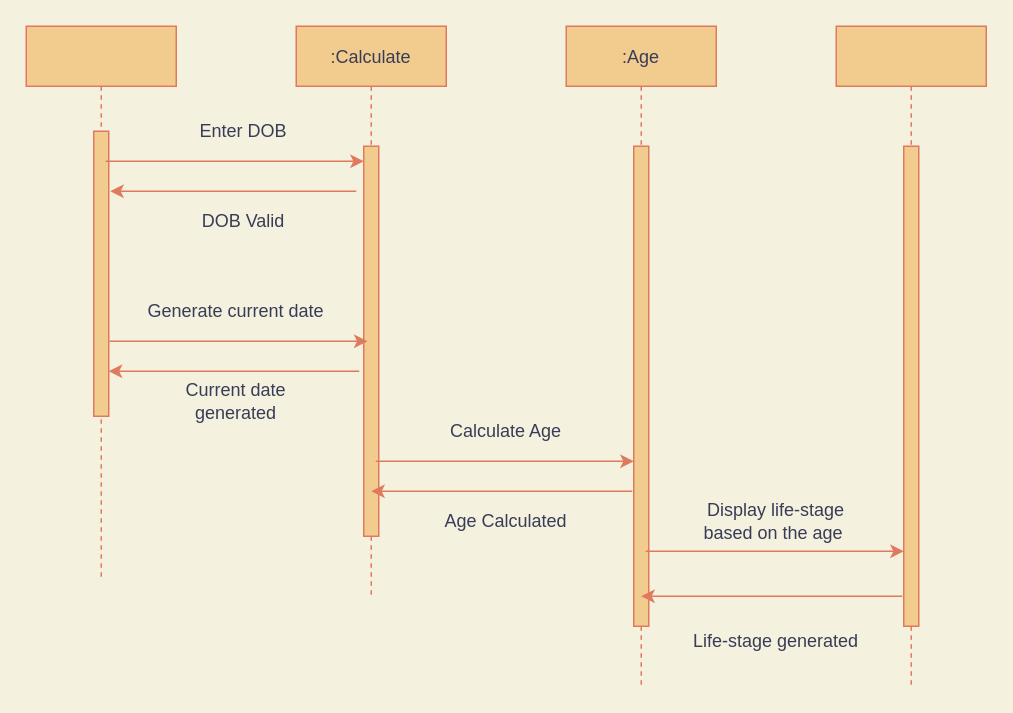
Some shapes in this 1013 by 713 pixel diagram are drawn without their labels. The centre of each missing label's shape, as x and y in pixels:
":Life Period" goes at pixel 910 355.
":User" goes at pixel 100 303.
